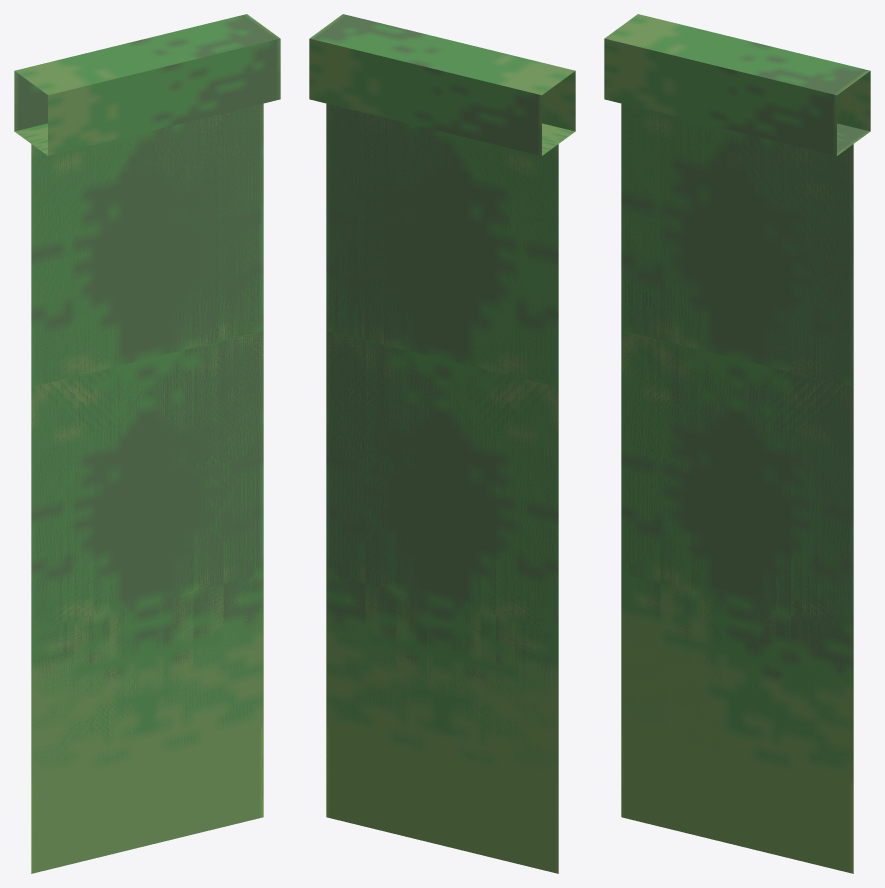
The model's file is fence.obj.
3 views of the same model, side by side, from view 1: azimuth 30°, elevation 25°; view 2: azimuth 150°, elevation 25°; view 3: azimuth 330°, elevation 25° (orthographic).
Visible parts, largest first — view 1: Default; view 2: Default; view 3: Default.
Part boxes in pixels (<box>): Default: <box>14,14,280,873</box>; Default: <box>309,14,575,873</box>; Default: <box>604,14,870,873</box>.
Size of the model in its own units: 3 by 9.75 by 0.75.
